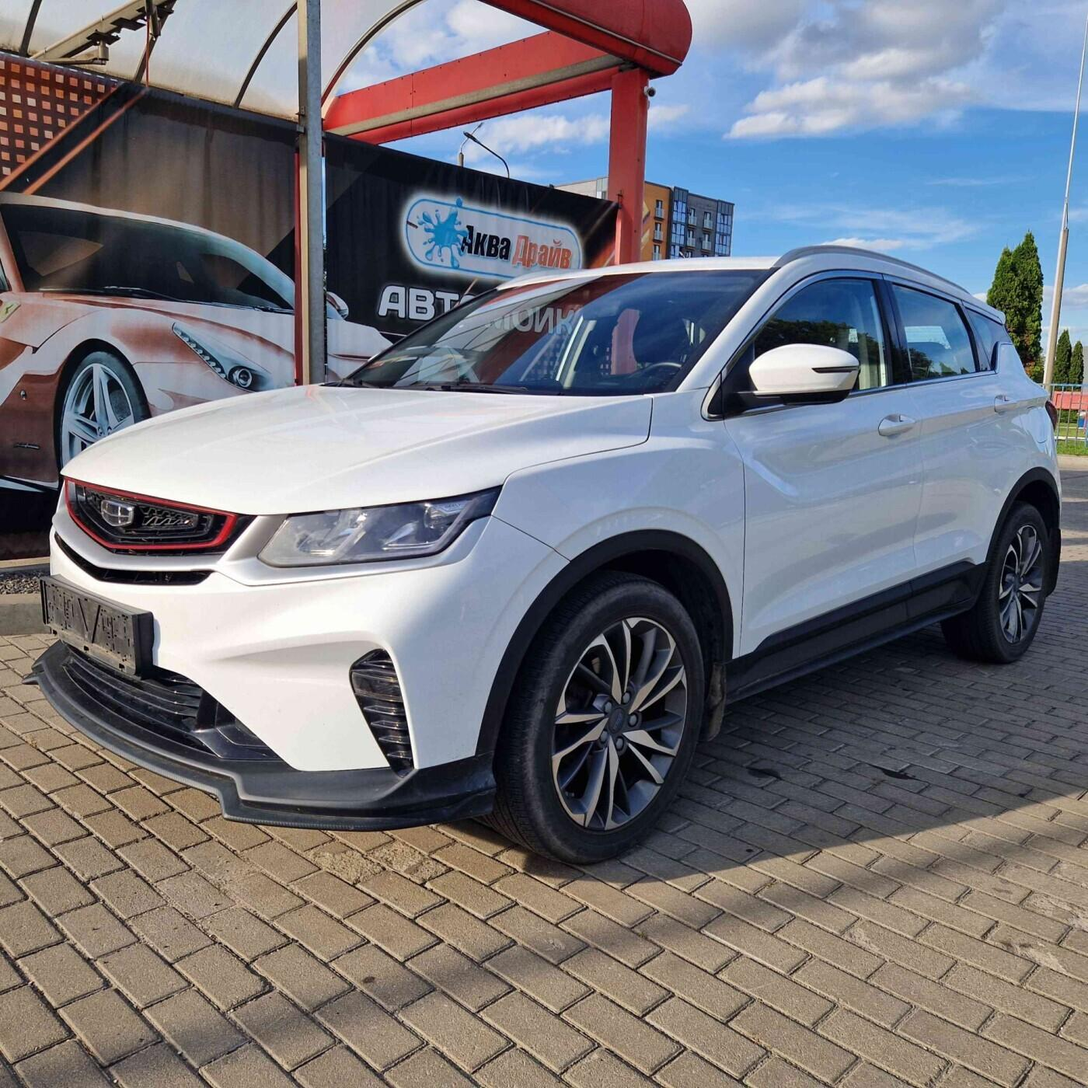Coolray_2019-2023: (26, 241, 1066, 861)
